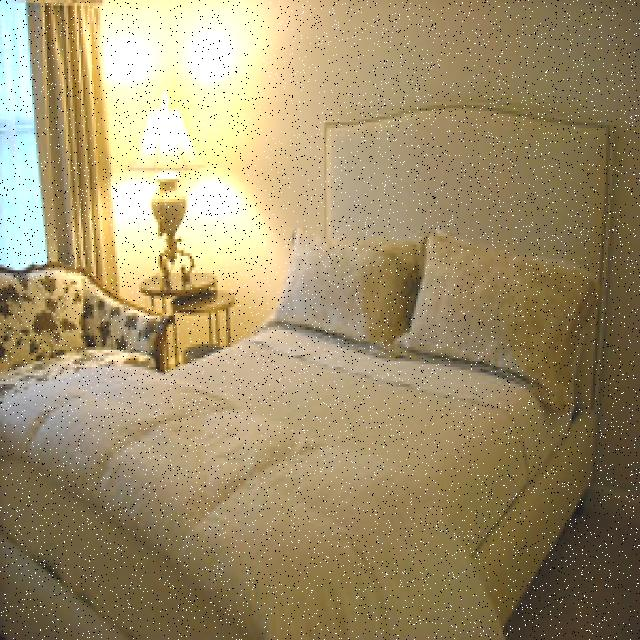bed: (16, 100, 618, 640)
